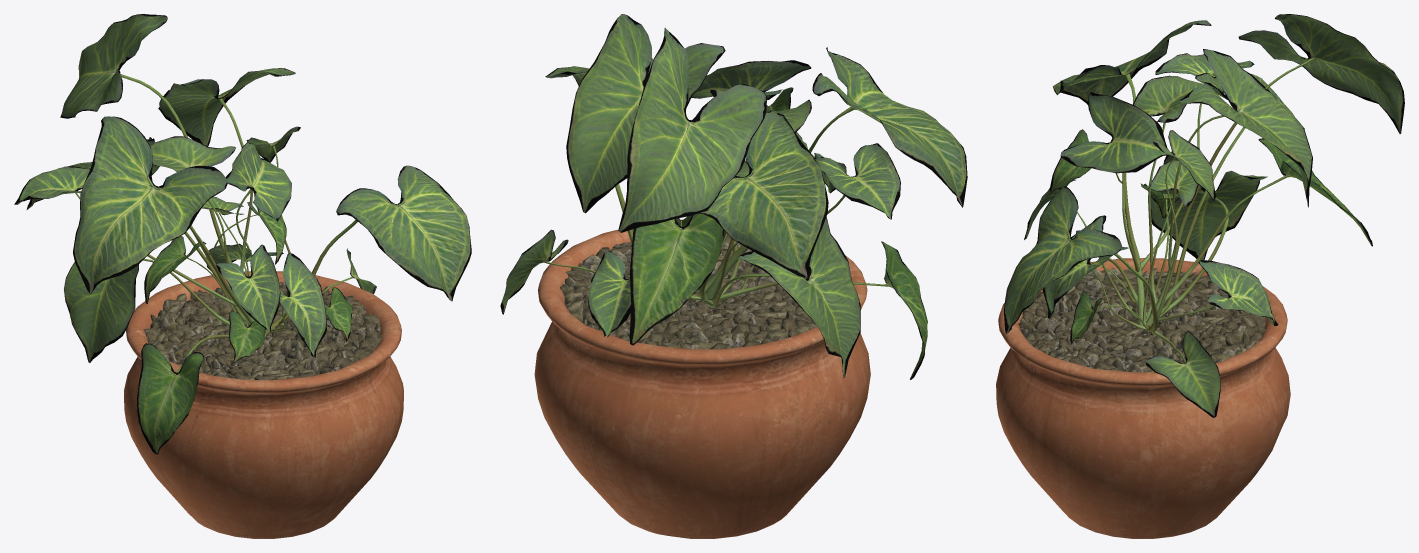
Rendered from retro-plant.glb.
The picture shows the model from 3 angles, left to right: view 1: azimuth 30°, elevation 25°; view 2: azimuth 150°, elevation 25°; view 3: azimuth 270°, elevation 25°; orthographic projection. The views are drawn at different scales.
Size of the model in its own units: 0.7009 by 0.8412 by 0.6561.
Materials: 2 (2 with a texture image).
